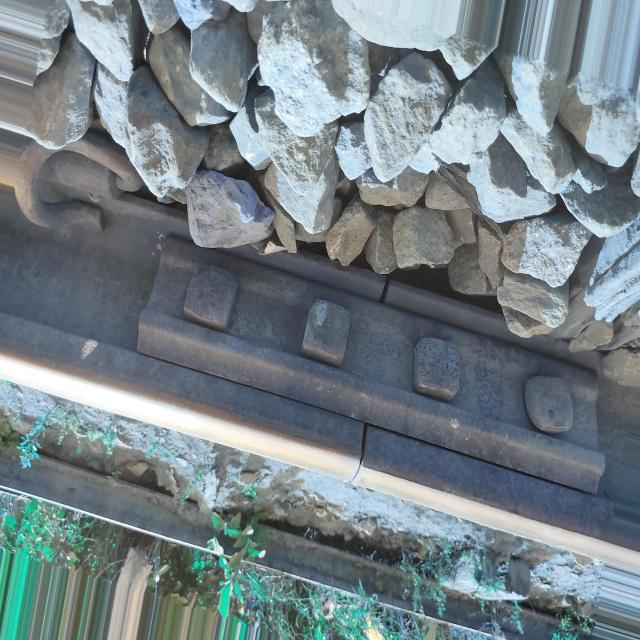Good Fasteners: (15, 129, 144, 227)
Good Joint: (140, 226, 610, 490)
